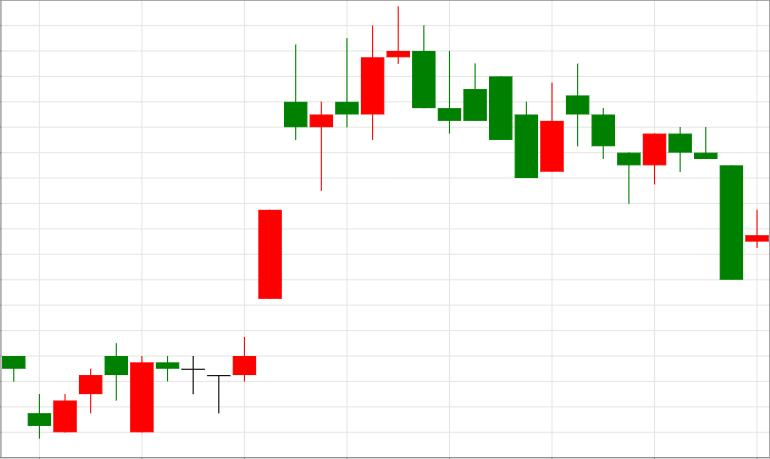inverse_hammer_rise: (207, 44, 308, 415)
